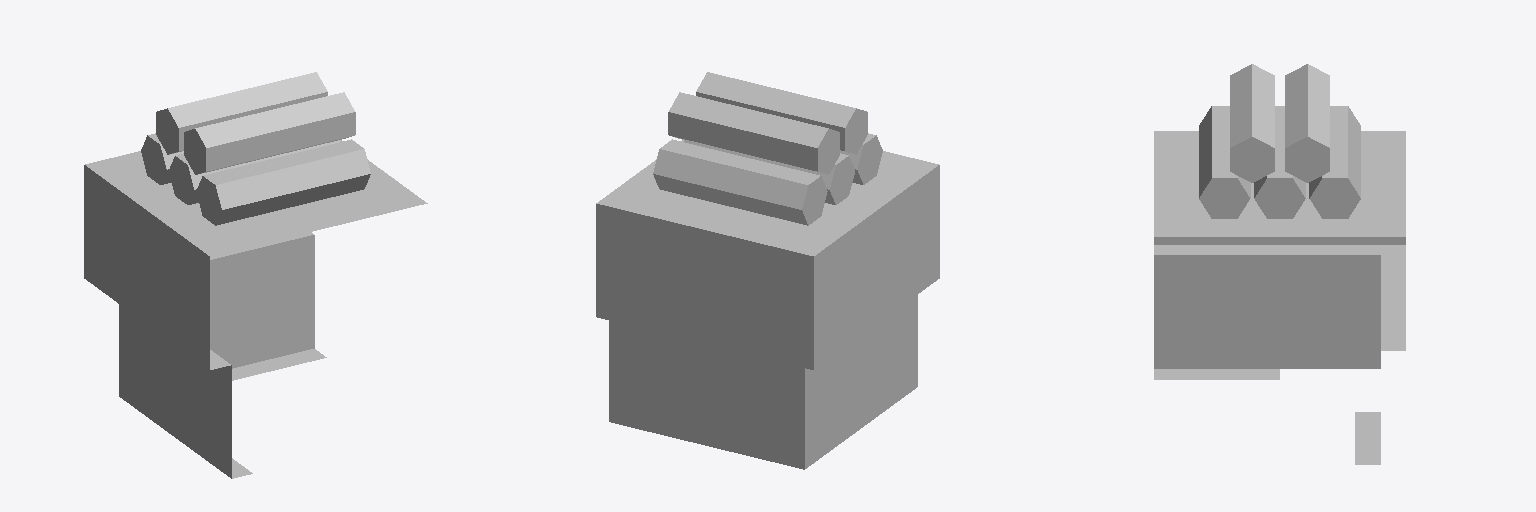
File: Outer_Corner_Wall_Roof_Outer_Corner.obj
3 renders of one model, left to right at view 1: azimuth 30°, elevation 25°; view 2: azimuth 150°, elevation 25°; view 3: azimuth 270°, elevation 25°, orthographic.
Visible parts, largest first — view 1: Outer_Corner_Wall_Roof_Outer_Corner; view 2: Outer_Corner_Wall_Roof_Outer_Corner; view 3: Outer_Corner_Wall_Roof_Outer_Corner.
Part boxes in pixels (left/top/right/bottom): Outer_Corner_Wall_Roof_Outer_Corner: left=84, top=72, right=427, bottom=478; Outer_Corner_Wall_Roof_Outer_Corner: left=596, top=72, right=939, bottom=469; Outer_Corner_Wall_Roof_Outer_Corner: left=1154, top=64, right=1405, bottom=464.
Size of the model in its own units: 1 by 1.37 by 1.